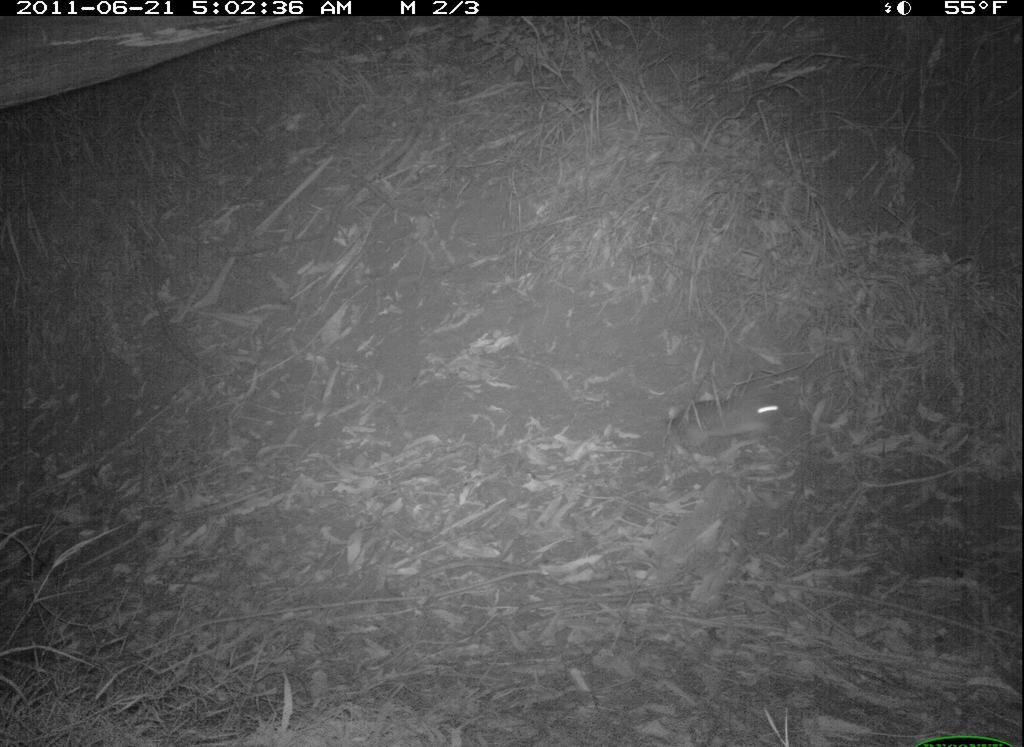rabbit: (643, 355, 813, 479)
